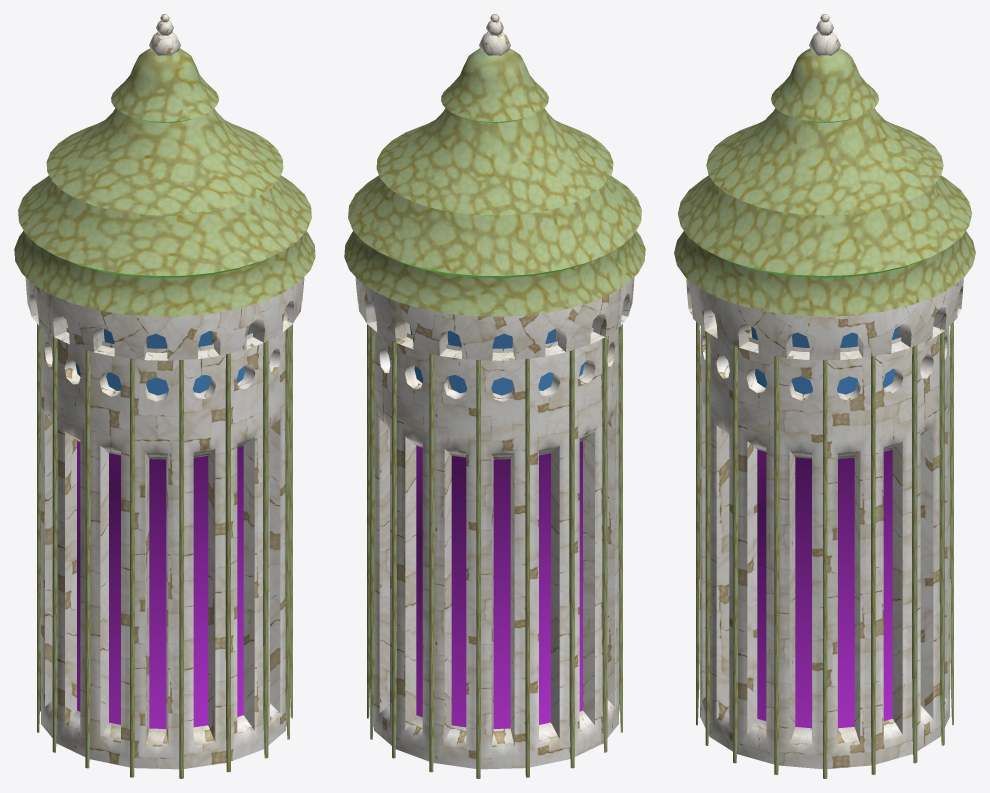
The model's file is RoundTower.fbx.
The picture shows the model from 3 angles, left to right: view 1: azimuth 30°, elevation 25°; view 2: azimuth 150°, elevation 25°; view 3: azimuth 270°, elevation 25°; orthographic projection.
Visible parts, largest first — view 1: Cylinder.001; view 2: Cylinder.001; view 3: Cylinder.001.
Boxes of the visible parts, x1,y1,x2,y2 form: Cylinder.001: (14,14,315,778); Cylinder.001: (344,14,645,778); Cylinder.001: (674,14,975,778).
Size of the model in its own units: 13.76 by 35.73 by 13.76.
